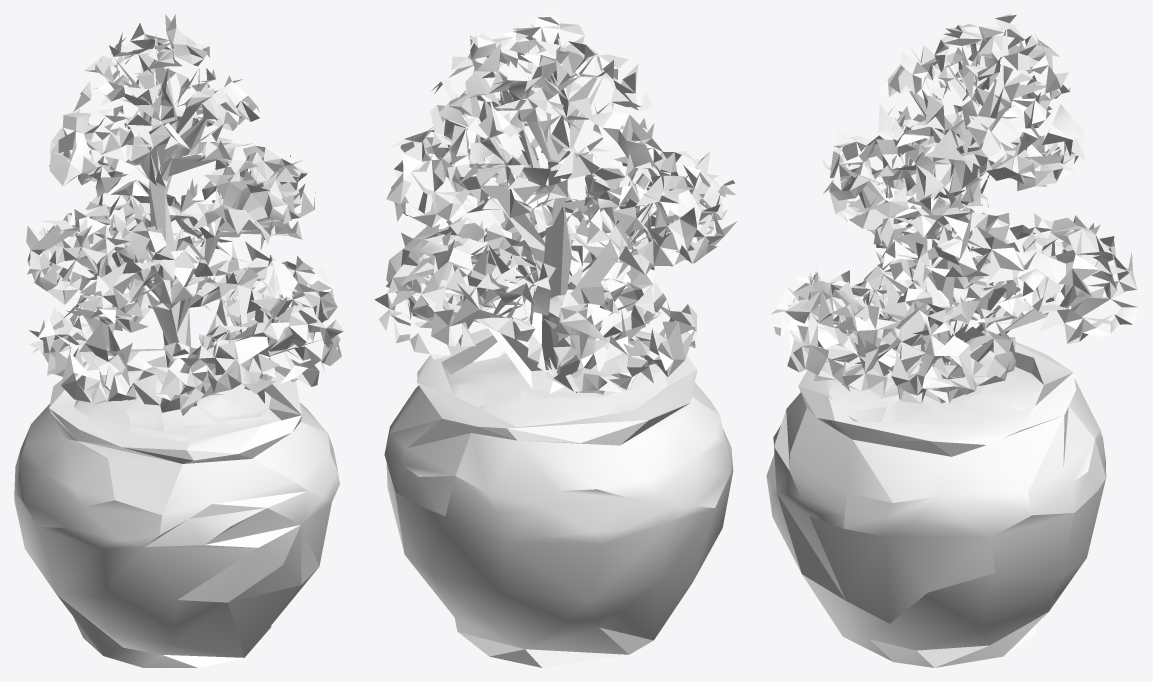
The model's file is potted_shrub.glb.
The picture shows the model from 3 angles, left to right: view 1: azimuth 30°, elevation 25°; view 2: azimuth 150°, elevation 25°; view 3: azimuth 270°, elevation 25°; orthographic projection. The views are drawn at different scales.
Visible parts, largest first — view 1: Mesh_0; view 2: Mesh_0; view 3: Mesh_0.
Part boxes in pixels (bbox=[...]): Mesh_0: bbox=[14, 14, 343, 667]; Mesh_0: bbox=[374, 14, 737, 667]; Mesh_0: bbox=[766, 14, 1138, 667].
Bounding box in the file's own units: 0.7631 × 1.4 × 0.7788.
1 material, 1 textured.
